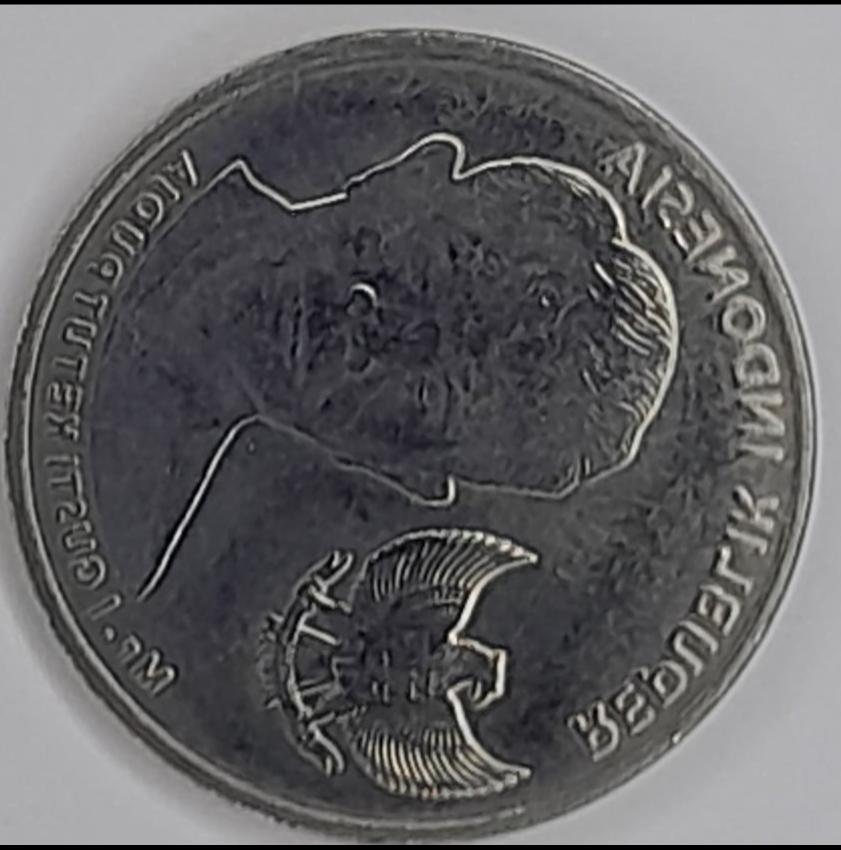coin_1000_e2016: (14, 17, 830, 850)
